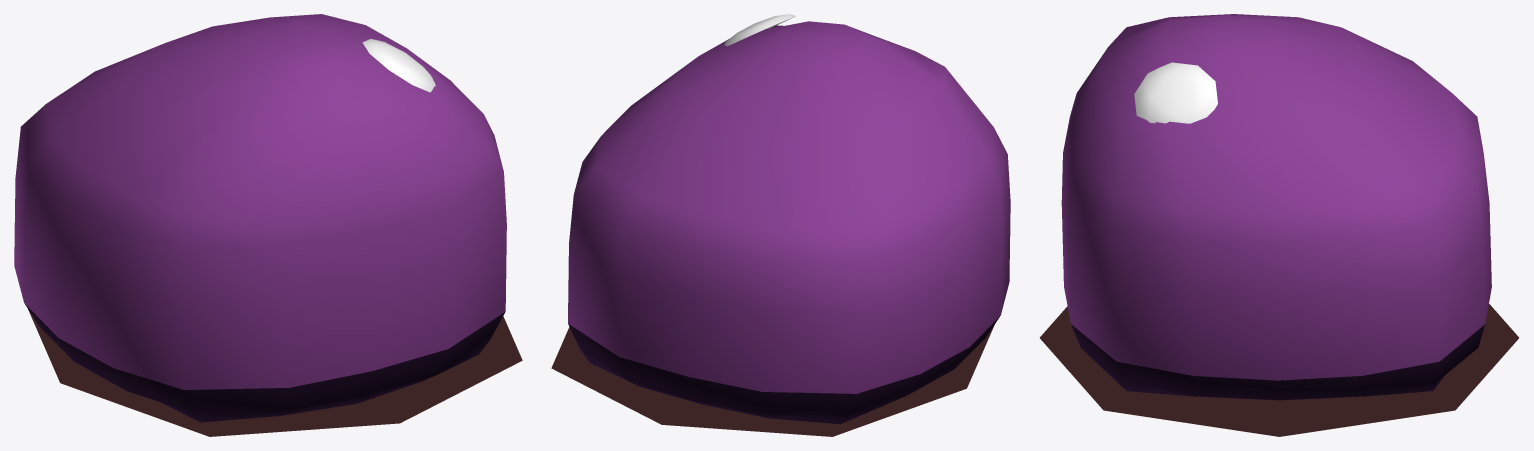
The model's file is Oozium238Mesh.BlackHole.glb.
3 views of the same model, side by side, from view 1: azimuth 30°, elevation 25°; view 2: azimuth 150°, elevation 25°; view 3: azimuth 270°, elevation 25° (orthographic). The views are drawn at different scales.
Parts seen in each view (by area): view 1: Oozium238Mesh.BlackHole; view 2: Oozium238Mesh.BlackHole; view 3: Oozium238Mesh.BlackHole.
Boxes of the visible parts, x1,y1,x2,y2 form: Oozium238Mesh.BlackHole: (14,14,522,436); Oozium238Mesh.BlackHole: (551,14,1010,436); Oozium238Mesh.BlackHole: (1040,14,1518,436).
Bounding box in the file's own units: 2.04 × 1.44 × 2.07.
Materials: 1 (1 with a texture image).
